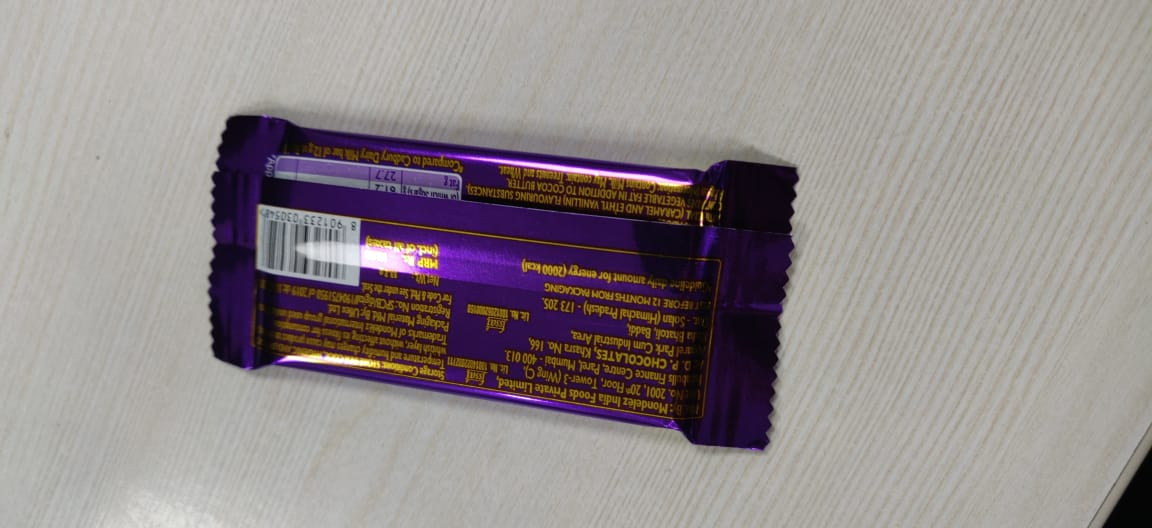dairy milk: (195, 103, 821, 472)
